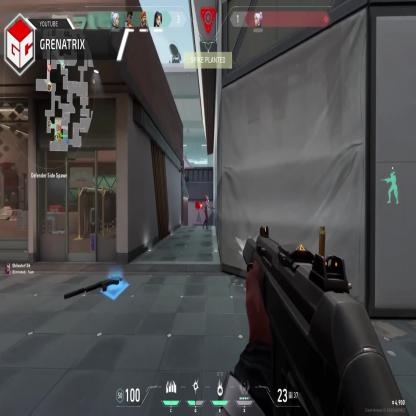enemy: (203, 196, 210, 227)
enemy_head: (206, 196, 209, 202)
